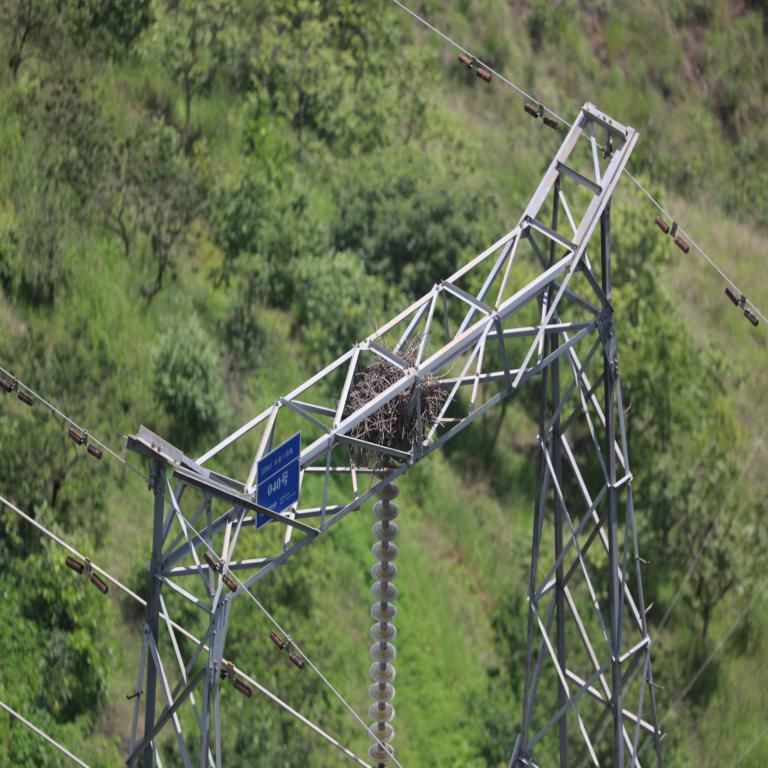nest: (344, 362, 437, 460)
